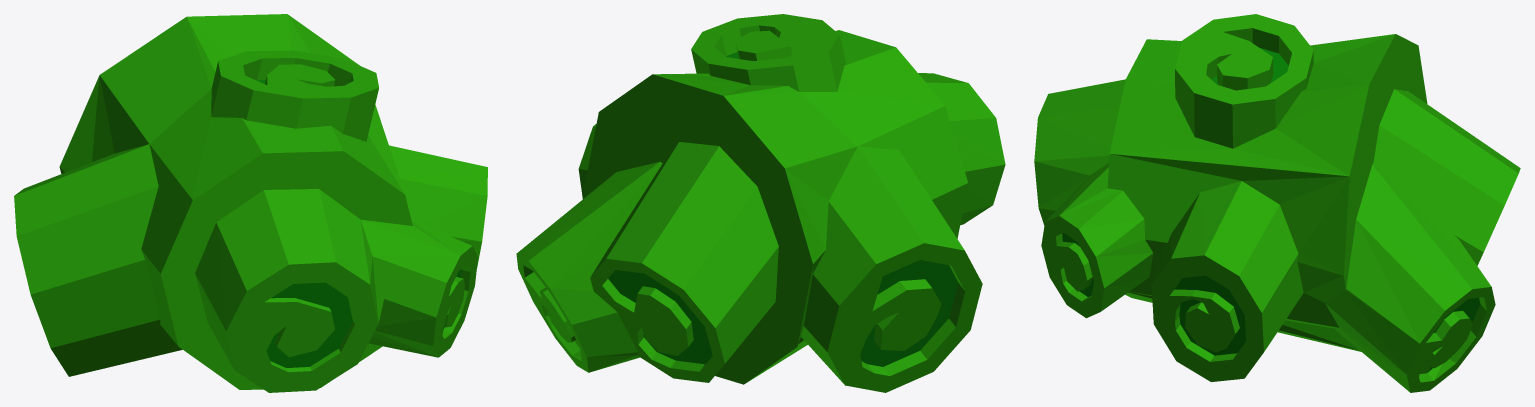
Rendered from Vegetation_Modular_Tree_Whimsical_Swirl_01.FBX.
3 views of the same model, side by side, from view 1: azimuth 30°, elevation 25°; view 2: azimuth 150°, elevation 25°; view 3: azimuth 270°, elevation 25° (orthographic). The views are drawn at different scales.
Parts seen in each view (by area): view 1: Vegetation_Modular_Tree_Whimsical_Swirl_01; view 2: Vegetation_Modular_Tree_Whimsical_Swirl_01; view 3: Vegetation_Modular_Tree_Whimsical_Swirl_01.
Part boxes in pixels (bbox=[...]): Vegetation_Modular_Tree_Whimsical_Swirl_01: bbox=[14, 14, 487, 392]; Vegetation_Modular_Tree_Whimsical_Swirl_01: bbox=[516, 14, 1005, 392]; Vegetation_Modular_Tree_Whimsical_Swirl_01: bbox=[1034, 14, 1520, 392].
Bounding box in the file's own units: 3798 × 2544 × 3805.
